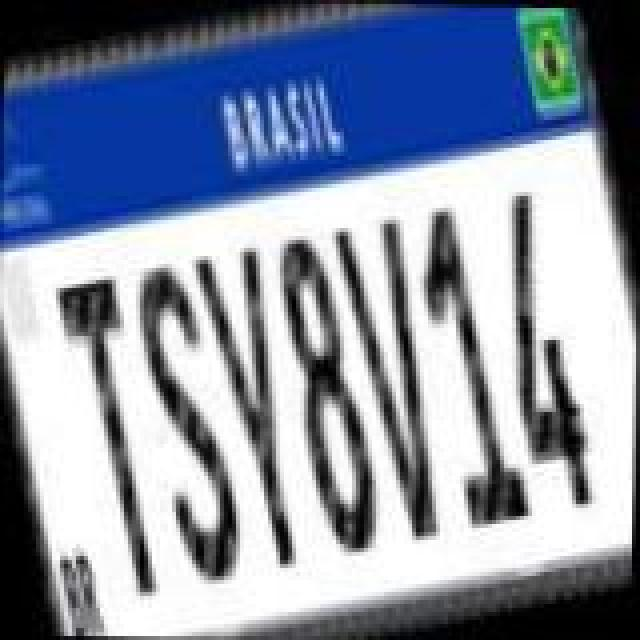1: (398, 194, 542, 534)
4: (472, 182, 612, 522)
8: (258, 224, 398, 564)
S: (118, 254, 258, 594)
T: (48, 268, 184, 604)
V: (328, 212, 468, 548)
Y: (188, 240, 332, 580)
